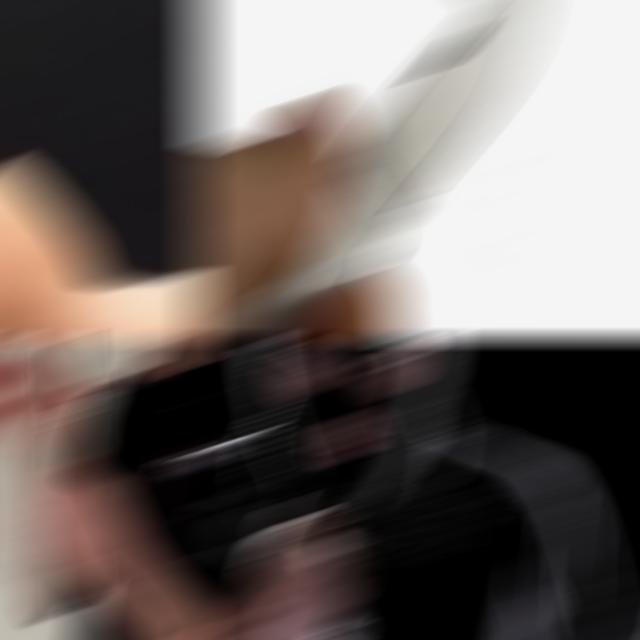Knife: (226, 3, 545, 336)
Knife_Handle: (188, 3, 584, 336), (41, 342, 127, 598), (248, 516, 364, 637)
